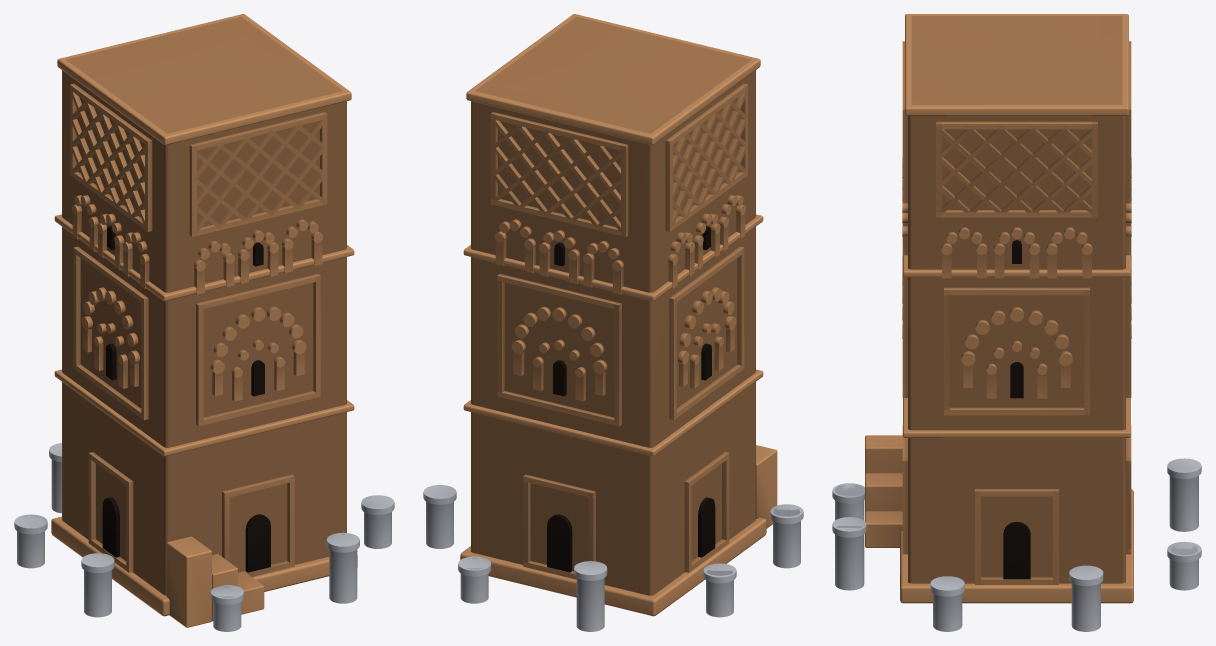
File: piece-10.glb
The picture shows the model from 3 angles, left to right: view 1: azimuth 30°, elevation 25°; view 2: azimuth 150°, elevation 25°; view 3: azimuth 270°, elevation 25°; orthographic projection. The views are drawn at different scales.
Parts seen in each view (by area): view 1: Cube; view 2: Cube; view 3: Cube.
Part boxes in pixels (x1,y1,x2,y2): Cube: (14, 14, 394, 631); Cube: (423, 14, 803, 631); Cube: (832, 14, 1201, 631).
Bounding box in the file's own units: 1.44 × 2.13 × 1.44.
